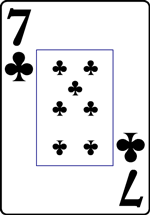six of clubs: (3, 3, 148, 213)
